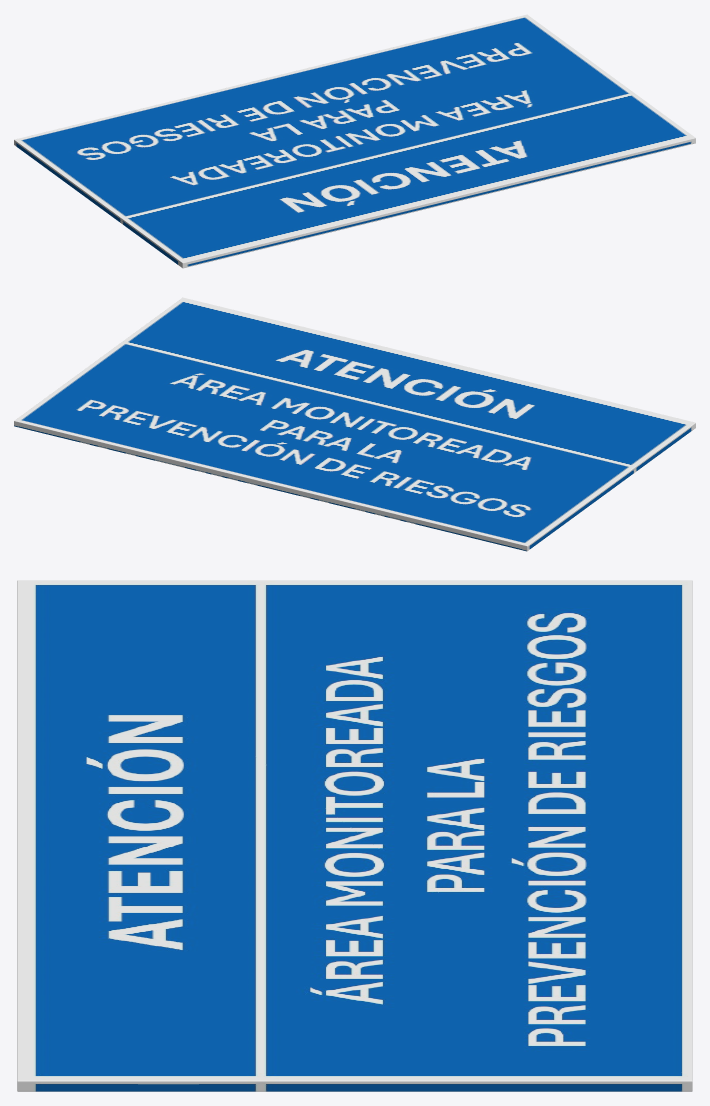
The model's file is modelo_cartel_azul.obj.
3 views of the same model, one above another, from view 1: azimuth 30°, elevation 25°; view 2: azimuth 150°, elevation 25°; view 3: azimuth 270°, elevation 25° (orthographic). The views are drawn at different scales.
Parts seen in each view (by area): view 1: painting_Material.006; view 2: painting_Material.006; view 3: painting_Material.006.
Part boxes in pixels (left/top/right/bottom): painting_Material.006: left=14, top=14, right=695, bottom=268; painting_Material.006: left=14, top=297, right=695, bottom=551; painting_Material.006: left=17, top=580, right=692, bottom=1091.
Bounding box in the file's own units: 0.3346 × 0.00339 × 0.1905.
Materials: 1 (1 with a texture image).
